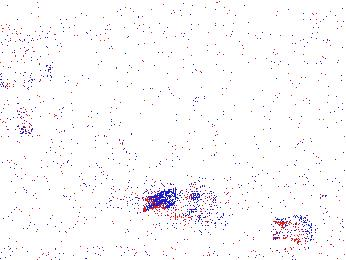flame jellyfish: (145, 184, 231, 241), (272, 184, 346, 245), (1, 50, 54, 135)
